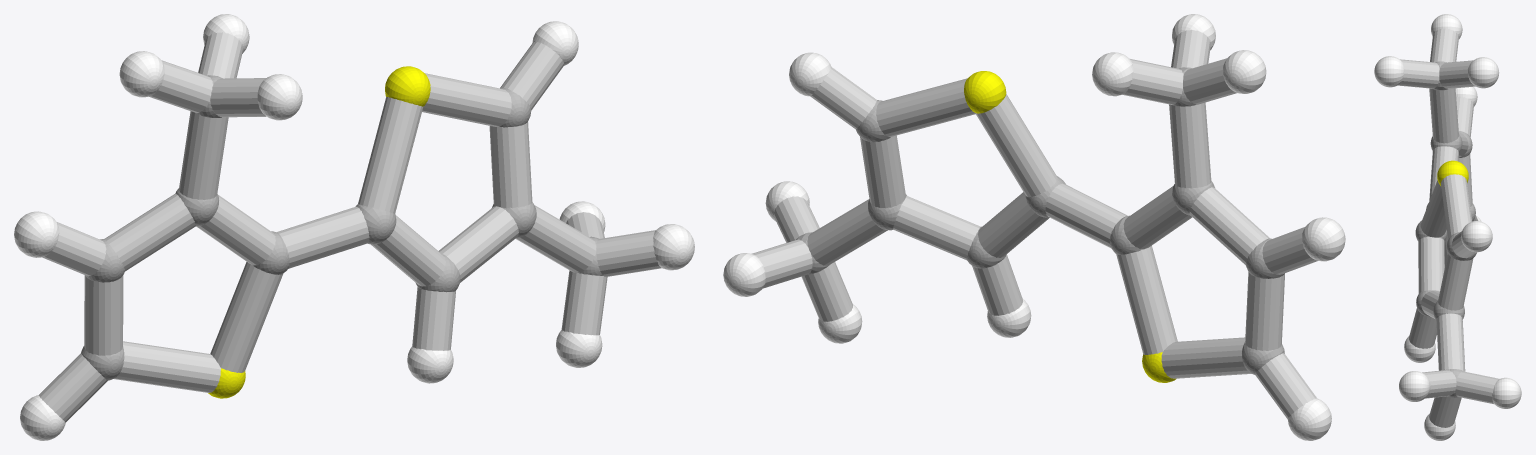
File: Methylthiophene_Phi_20_Theta_350_Methylthiophene.glb
3 views of the same model, side by side, from view 1: azimuth 30°, elevation 25°; view 2: azimuth 150°, elevation 25°; view 3: azimuth 270°, elevation 25° (orthographic). The views are drawn at different scales.
Parts seen in each view (by area): view 1: grp7965, grp3621, grp1, grp7241; view 2: grp7965, grp3621, grp1, grp7241; view 3: grp7965, grp3621, grp1, grp7241.
Part boxes in pixels (x1,y1,x2,y2): grp7965: [39, 32, 661, 422]; grp3621: [14, 14, 694, 440]; grp1: [81, 75, 602, 380]; grp7241: [208, 66, 430, 398]; grp7965: [752, 30, 1317, 419]; grp3621: [723, 14, 1345, 440]; grp1: [796, 67, 1284, 374]; grp7241: [964, 71, 1176, 382]; grp7965: [1398, 28, 1499, 427]; grp3621: [1374, 14, 1521, 440]; grp1: [1415, 61, 1476, 397]; grp7241: [1437, 160, 1468, 185].
Size of the model in its own units: 9.52 by 5.89 by 2.79.
